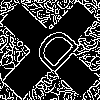D: (25, 25, 82, 82)
